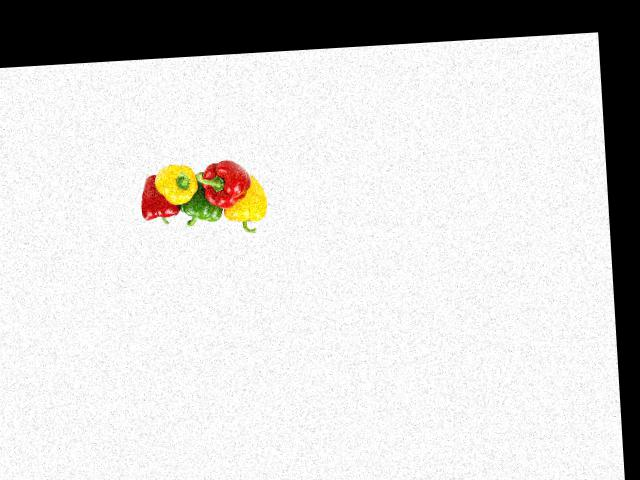bell_pepper: (137, 179, 180, 227)
